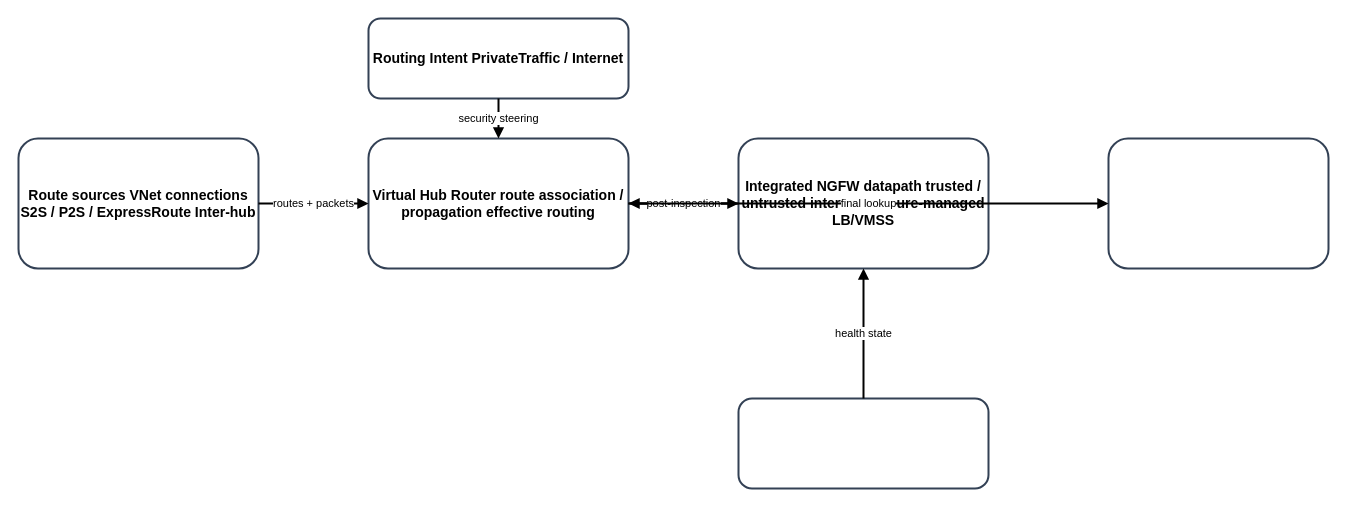
The diagram is 1346 pixels wide and 506 high, and some of its shapes have lost their labels. Here are the shapes that lost their labels. From the top down, the centre of each, then its label:
At (x=1218, y=203): "Destination VNet / branch / hub / Internet".
At (x=863, y=443): "Azure health probes platform decides healthy backends".
